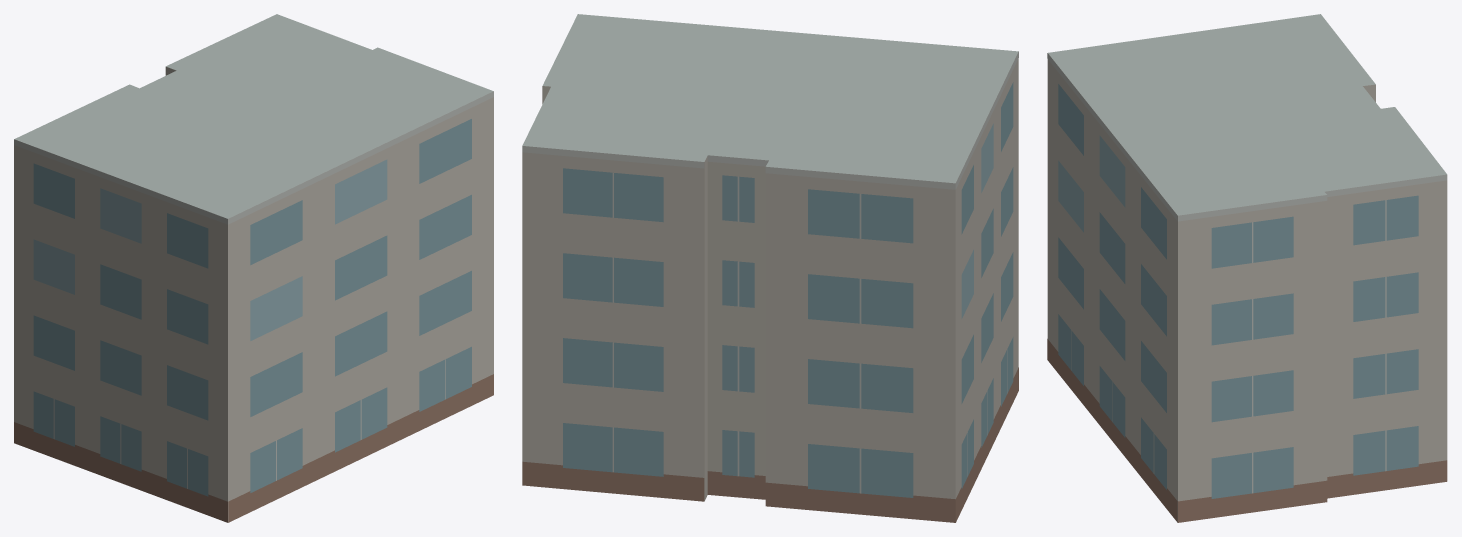
Rendered from survey-upis-32915114.glb.
3 views of the same model, side by side, from view 1: azimuth 30°, elevation 25°; view 2: azimuth 150°, elevation 25°; view 3: azimuth 270°, elevation 25° (orthographic). The views are drawn at different scales.
Visible parts, largest first — view 1: survey-upis-32915114.tmp; view 2: survey-upis-32915114.tmp; view 3: survey-upis-32915114.tmp.
Part boxes in pixels (left/top/right/bottom): survey-upis-32915114.tmp: left=14, top=14, right=493, bottom=522; survey-upis-32915114.tmp: left=522, top=14, right=1018, bottom=522; survey-upis-32915114.tmp: left=1047, top=14, right=1447, bottom=522.
Size of the model in its own units: 18.03 by 12.8 by 15.11.
